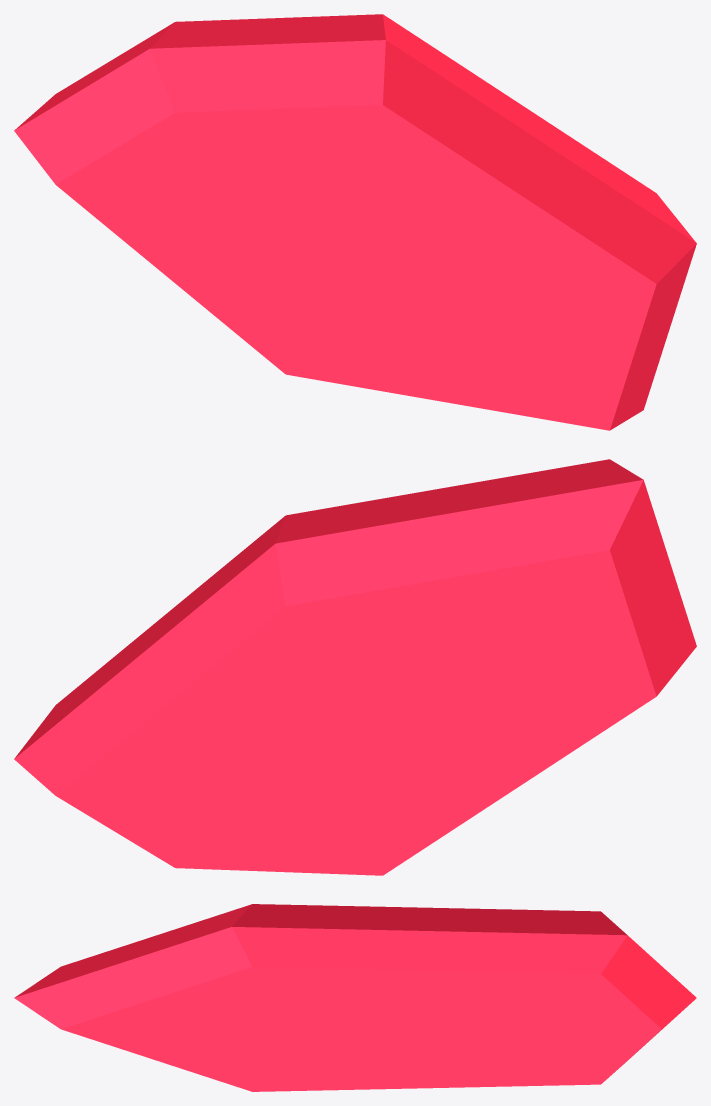
File: player_upgrade_rear_gunner.glb
The picture shows the model from 3 angles, top to bottom: view 1: azimuth 30°, elevation 25°; view 2: azimuth 150°, elevation 25°; view 3: azimuth 270°, elevation 25°; orthographic projection. The views are drawn at different scales.
Visible parts, largest first — view 1: PLAYER UPGRADE // REAR GUNNER; view 2: PLAYER UPGRADE // REAR GUNNER; view 3: PLAYER UPGRADE // REAR GUNNER.
Boxes of the visible parts, <box> form: PLAYER UPGRADE // REAR GUNNER: <box>14,14,696,430</box>; PLAYER UPGRADE // REAR GUNNER: <box>14,459,696,875</box>; PLAYER UPGRADE // REAR GUNNER: <box>14,904,696,1091</box>.
Size of the model in its own units: 0.68 by 0.14 by 1.38.
